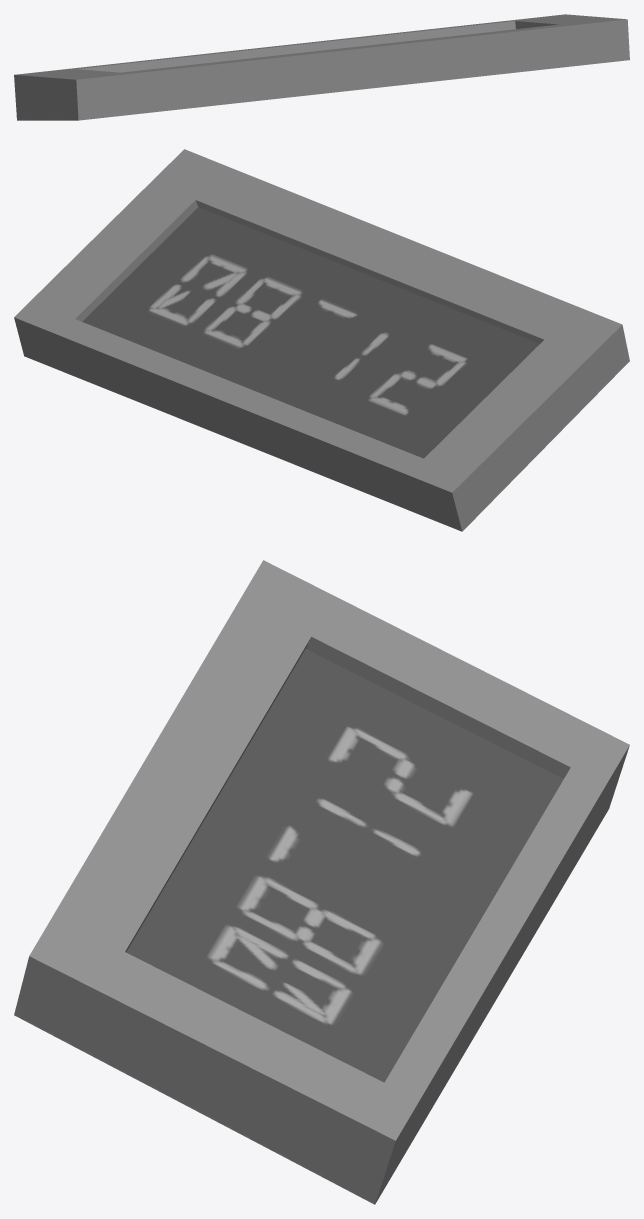
Rendered from screen.fbx.
3 views of the same model, one above another, from view 1: azimuth 30°, elevation 25°; view 2: azimuth 150°, elevation 25°; view 3: azimuth 270°, elevation 25° (orthographic). The views are drawn at different scales.
Visible parts, largest first — view 1: Cube.057; view 2: Cube.057; view 3: Cube.057.
Part boxes in pixels (x1,y1,x2,y2): Cube.057: [14, 14, 629, 120]; Cube.057: [14, 149, 629, 531]; Cube.057: [14, 560, 629, 1204].
Bounding box in the file's own units: 560 × 134 × 340.
Materials: 1 (1 with a texture image).
